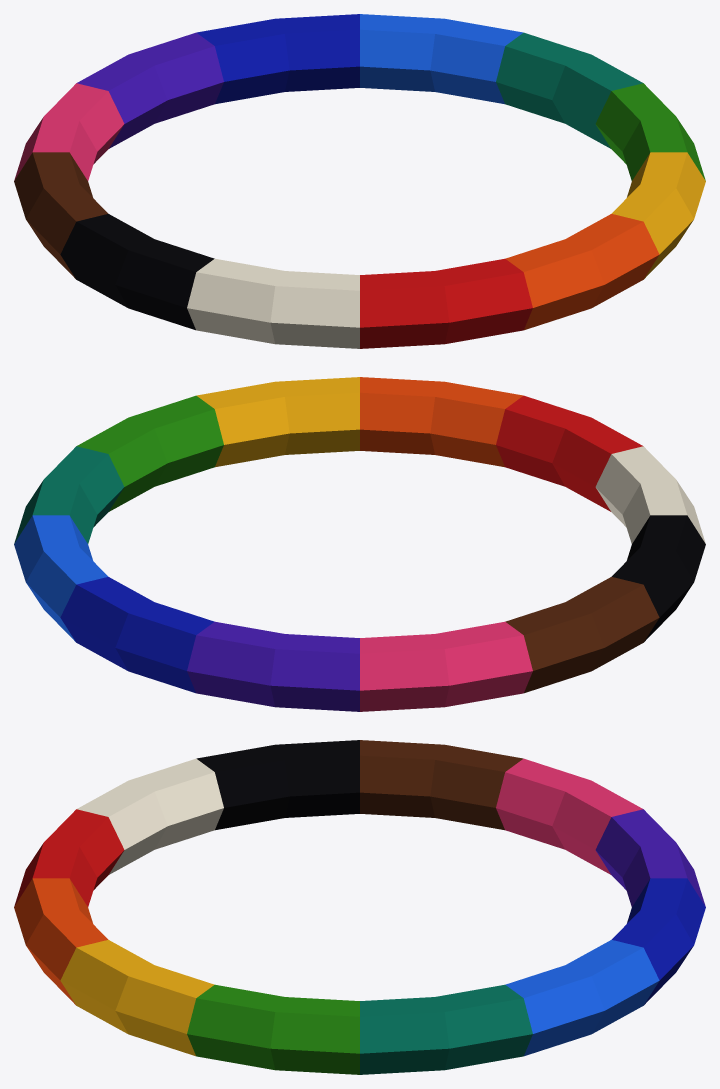
Rendered from SM_Angel_Halo.fbx.
3 views of the same model, one above another, from view 1: azimuth 30°, elevation 25°; view 2: azimuth 150°, elevation 25°; view 3: azimuth 270°, elevation 25° (orthographic).
Visible parts, largest first — view 1: SM_Angel_Halo; view 2: SM_Angel_Halo; view 3: SM_Angel_Halo.
Part boxes in pixels (x1,y1,x2,y2): SM_Angel_Halo: (14, 14, 705, 348); SM_Angel_Halo: (14, 377, 705, 711); SM_Angel_Halo: (14, 740, 705, 1074).
Size of the model in its own units: 35.84 by 3.33 by 35.84.
